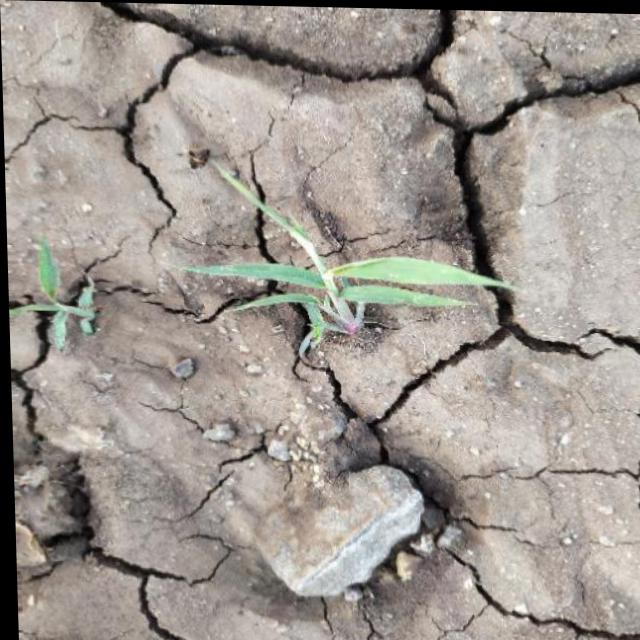weed: (162, 139, 522, 383)
